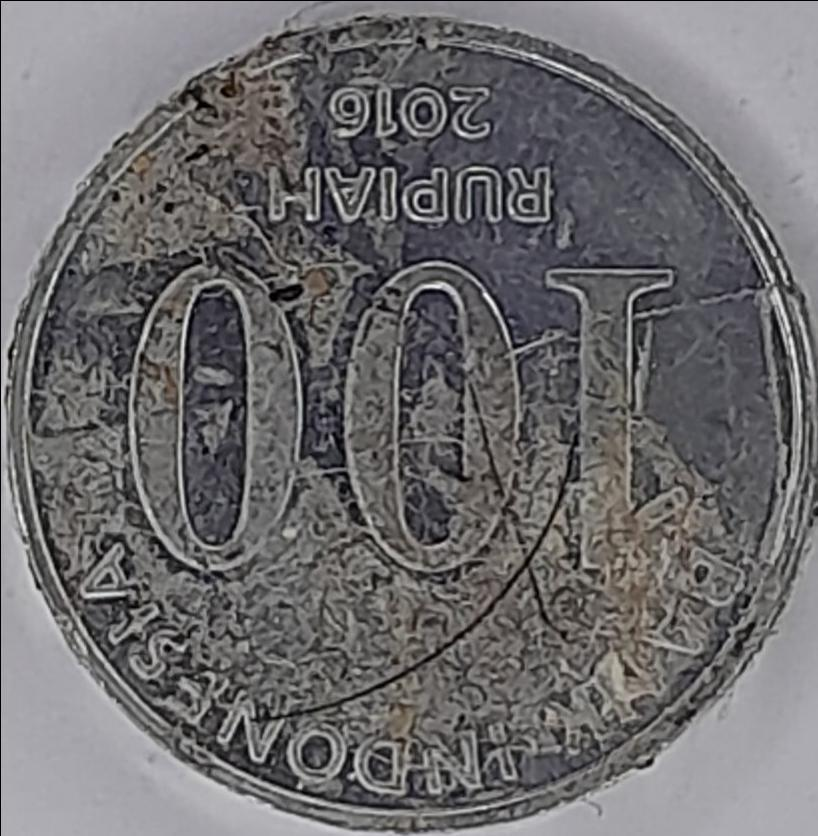coin_100_e2016: (0, 0, 817, 834)
